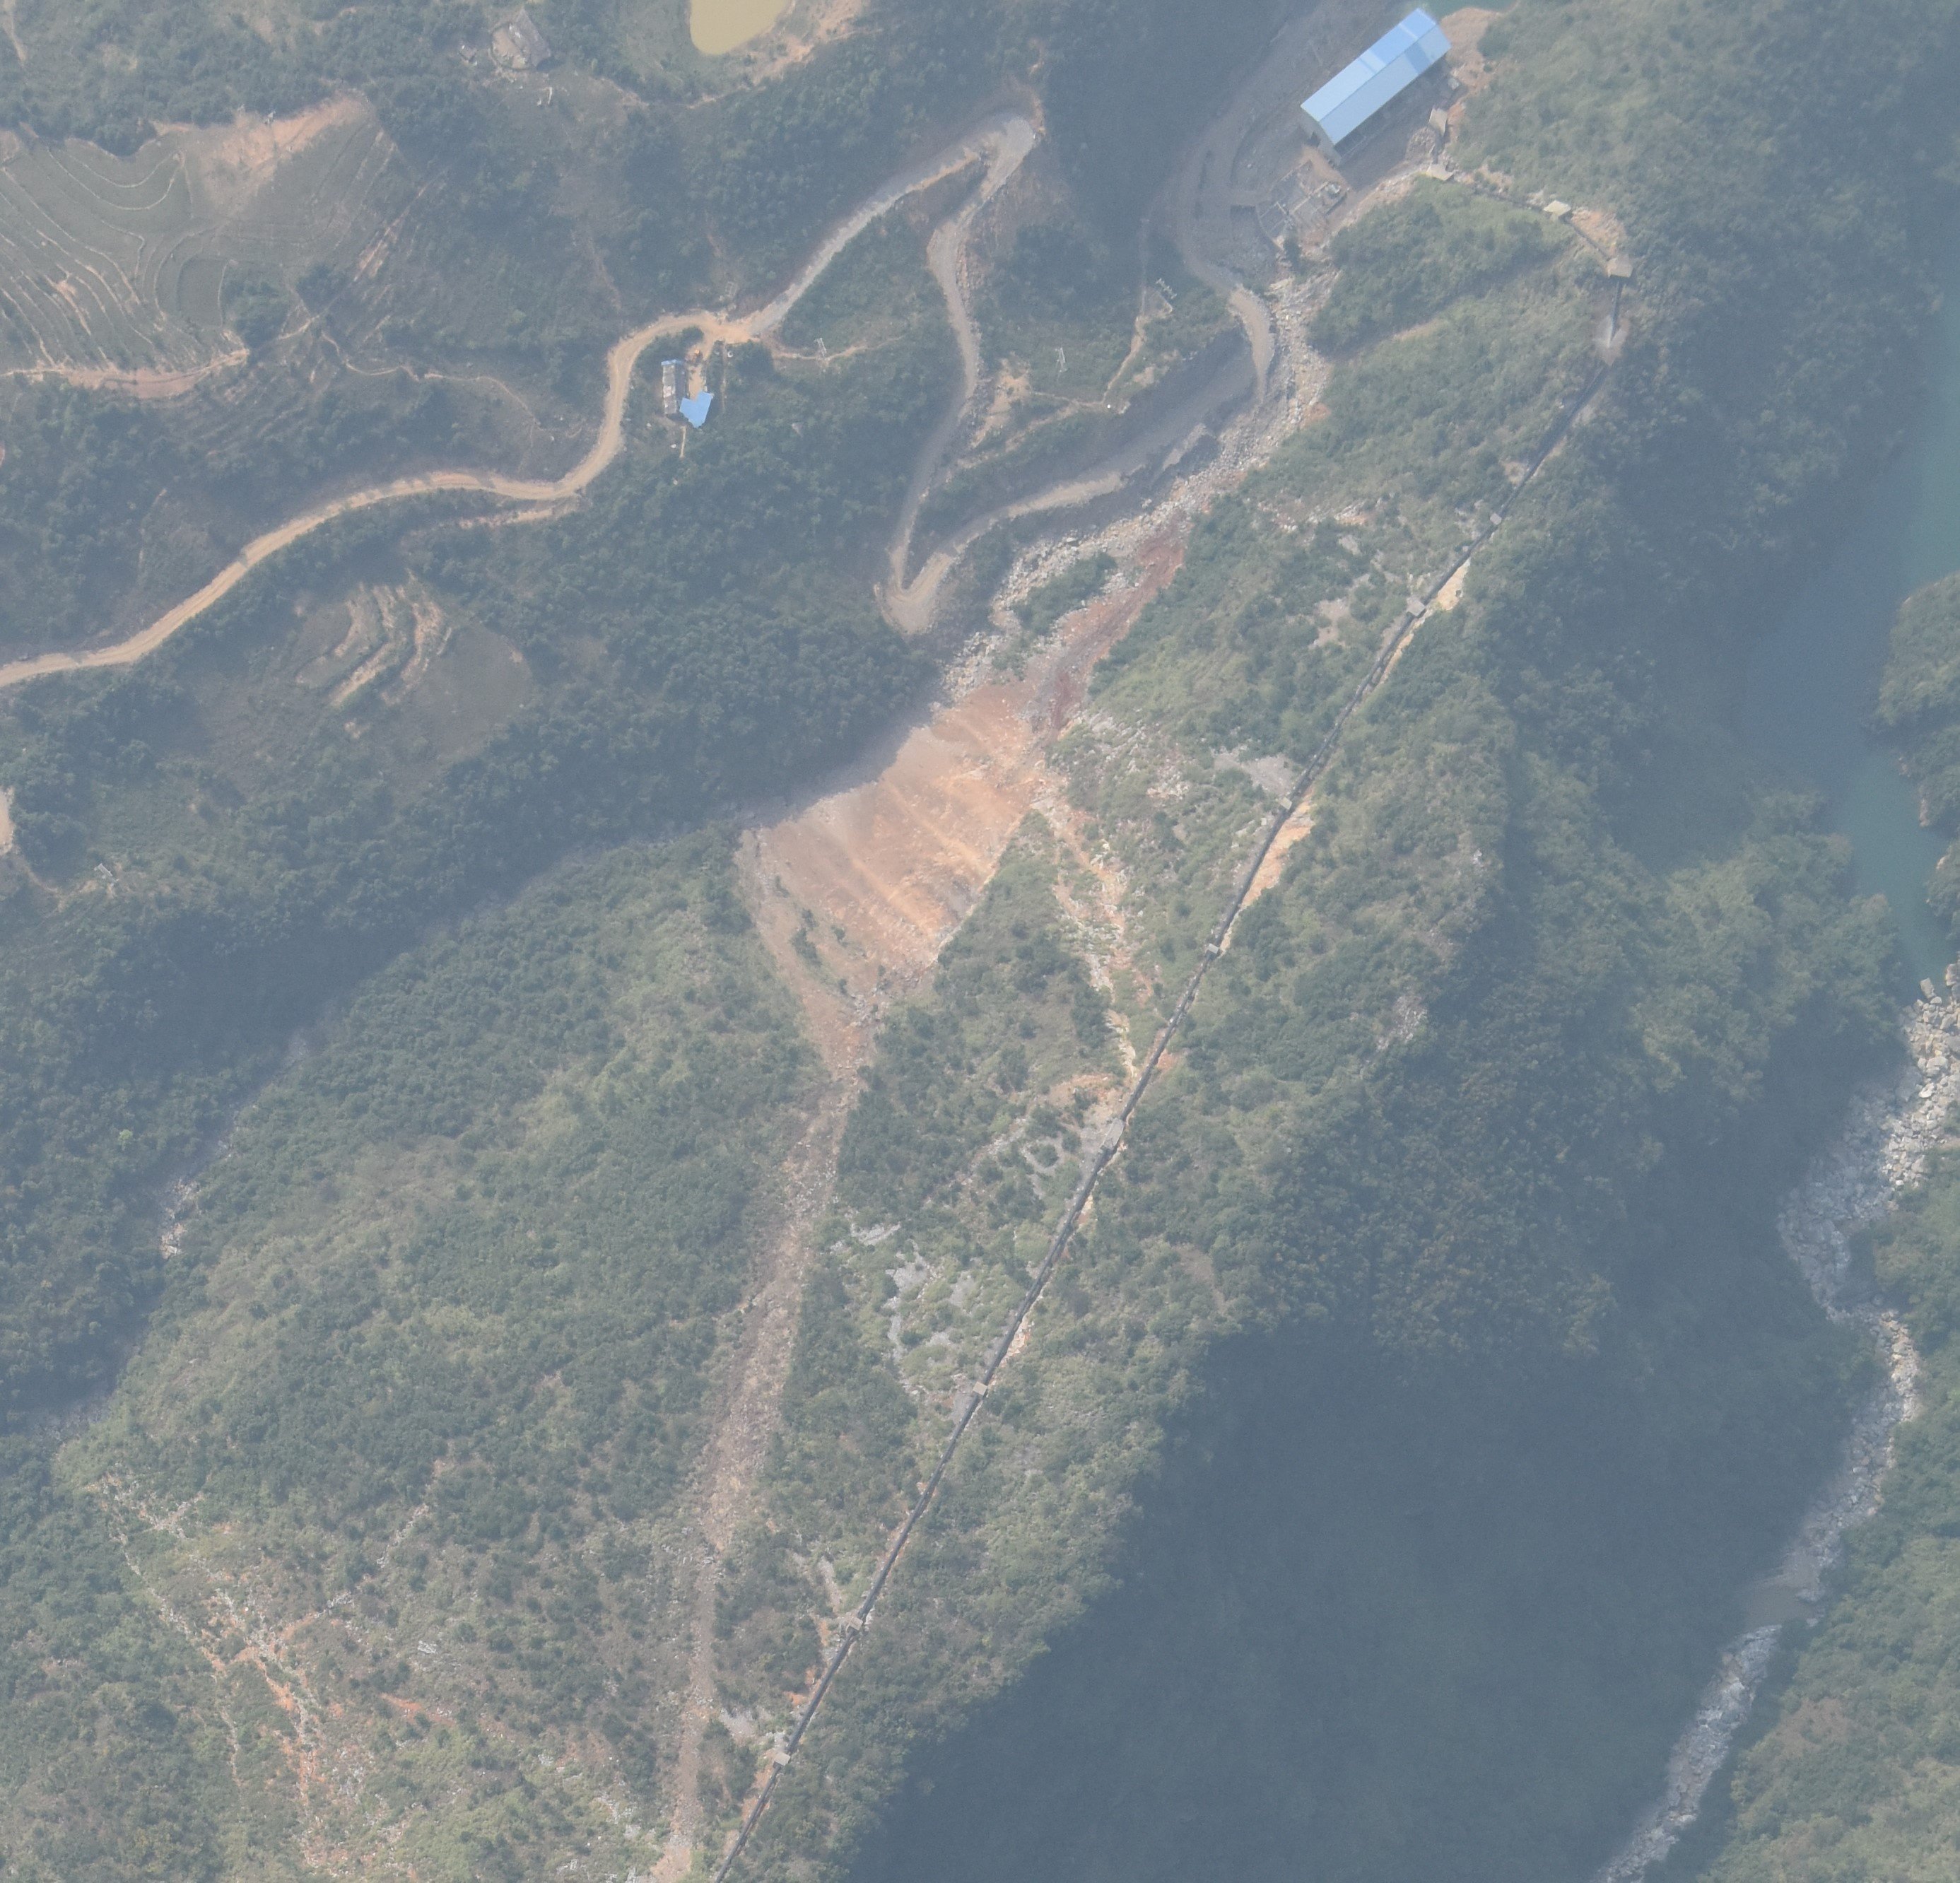building: (661, 359, 688, 415)
cable-tower: (814, 338, 828, 371)
landslide: (737, 509, 1199, 1076)
prefabricated-house: (1298, 7, 1452, 159), (677, 390, 712, 427)
vehicle: (1053, 348, 1067, 376), (691, 348, 698, 368)
